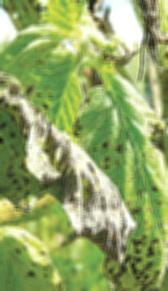Tomato Septoria leaf spot: (0, 0, 134, 248), (74, 68, 168, 291), (0, 225, 89, 291)
